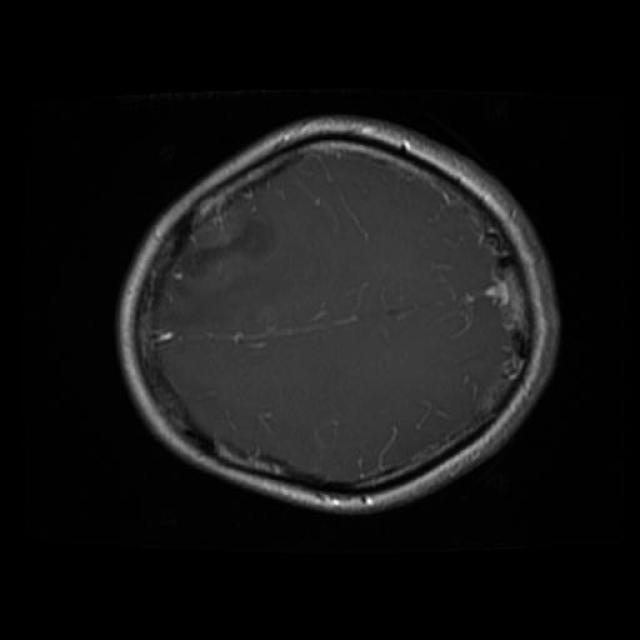Glioma: (182, 220, 274, 274)
